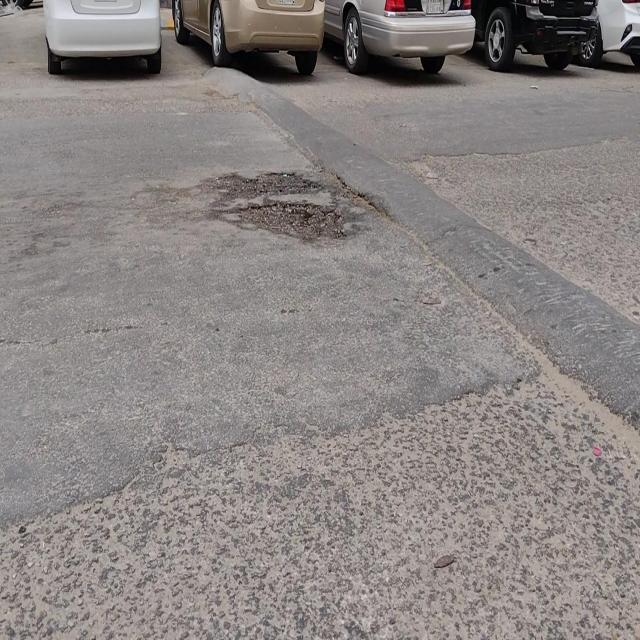Pothole: (234, 206, 345, 241), (217, 171, 314, 197)
Unmarked Bump: (210, 69, 640, 429)
